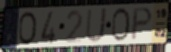2: (65, 9, 84, 44)
4: (40, 9, 57, 45)
O: (110, 7, 131, 43), (17, 10, 37, 46)
P: (130, 6, 154, 43)
U: (85, 7, 108, 44)
